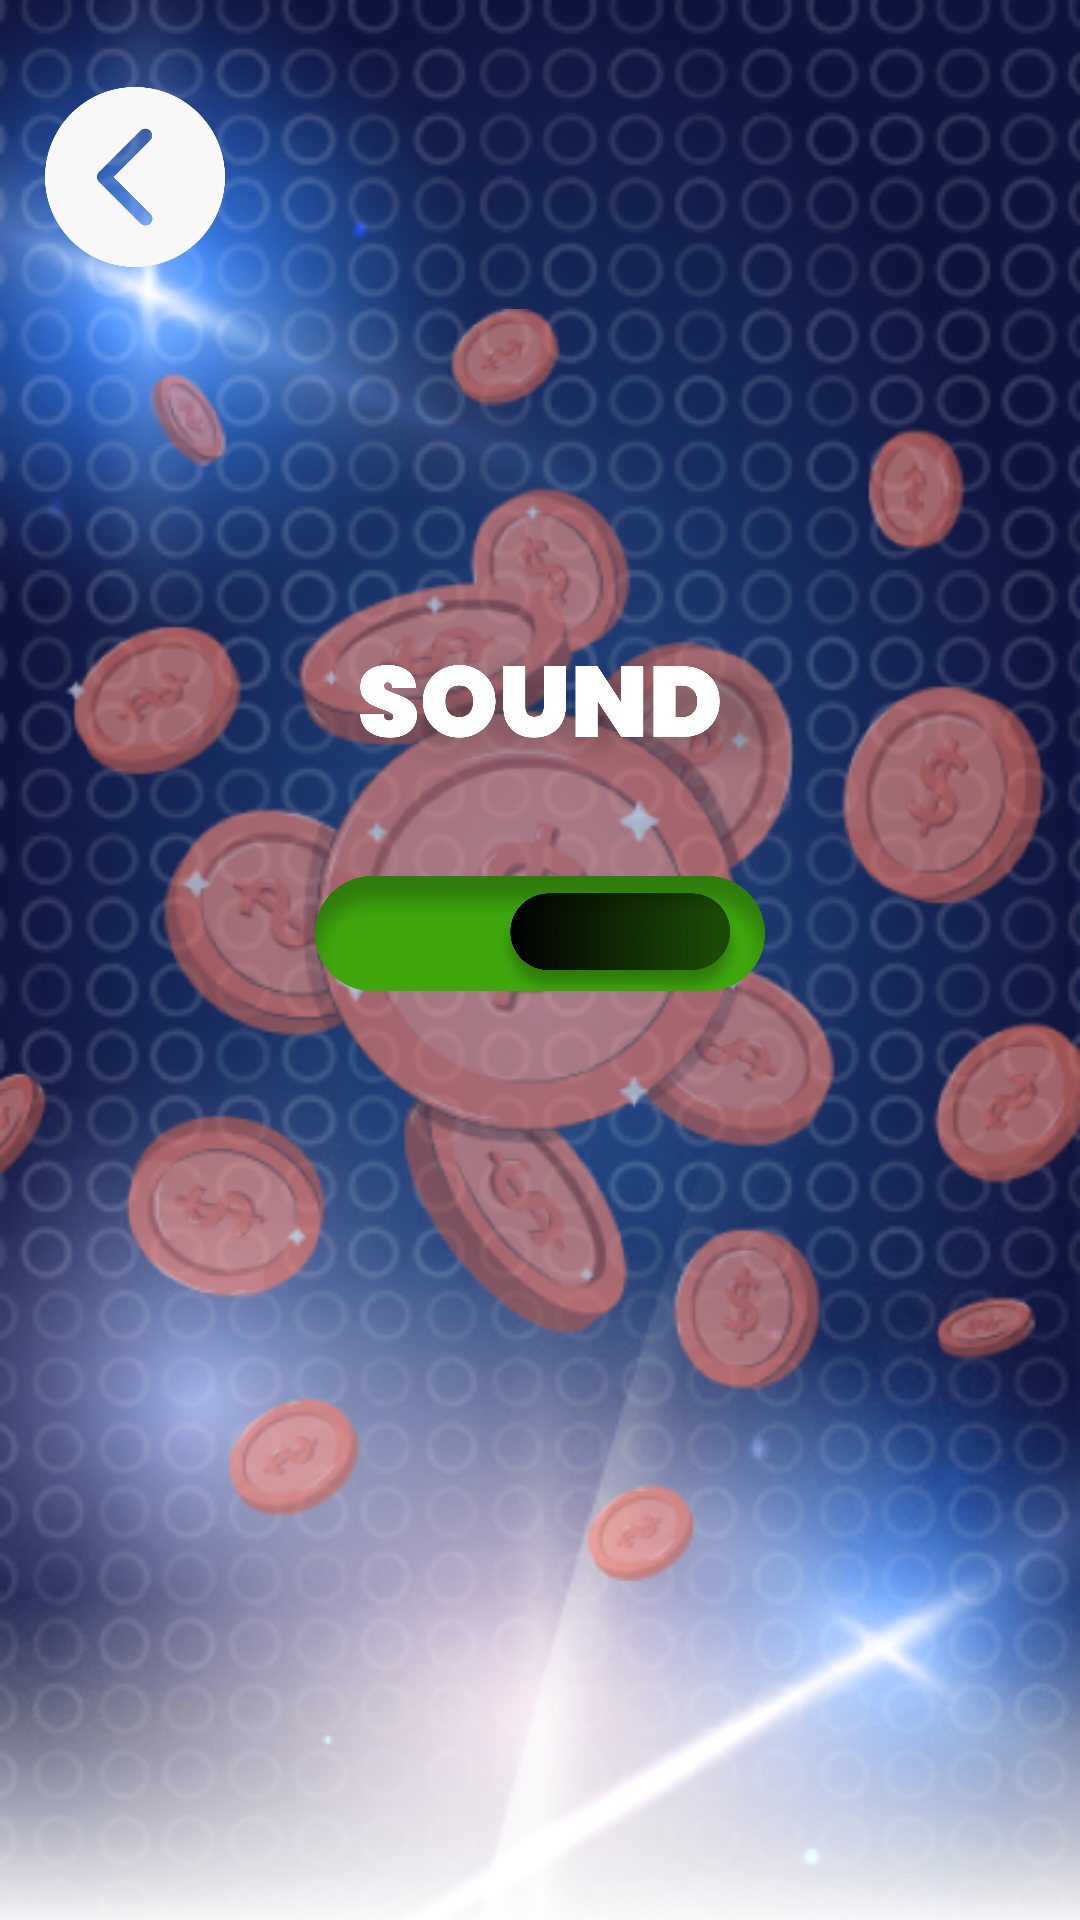

Icon click points for this 1080w x 1920h phone screenshot, format (x,y):
back: (135,177)
